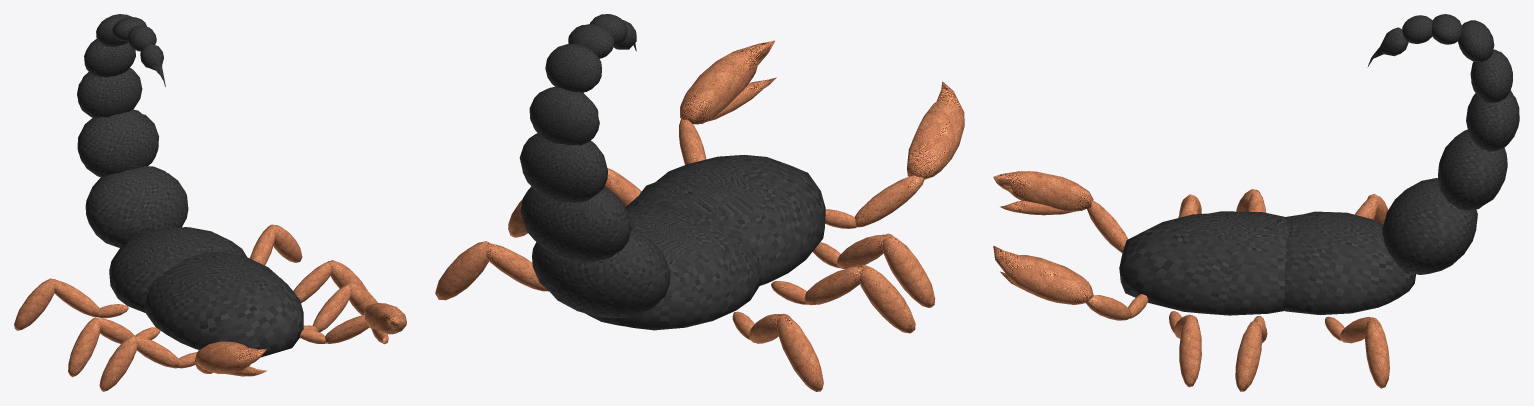
The model's file is scorpion_000003.obj.
3 views of the same model, side by side, from view 1: azimuth 30°, elevation 25°; view 2: azimuth 150°, elevation 25°; view 3: azimuth 270°, elevation 25° (orthographic). The views are drawn at different scales.
Parts seen in each view (by area): view 1: Sphere.010_Sphere.012, Sphere.002_Sphere.004, Sphere.011_Sphere.013, Sphere.003_Sphere.005, Sphere.030_Sphere.000, Sphere.004_Sphere.006, Sphere.014_Sphere.023, Sphere.013_Sphere.017, Sphere.012_Sphere.020, Sphere.000_Sphere.019, Sphere.005_Sphere.007, Sphere.018_Sphere.025 (+8 smaller); view 2: Sphere.010_Sphere.012, Sphere.011_Sphere.013, Sphere.002_Sphere.004, Sphere.030_Sphere.000, Sphere.003_Sphere.005, Sphere.004_Sphere.006, Sphere.014_Sphere.023, Sphere.005_Sphere.007, Sphere.028_Sphere.046, Sphere.012_Sphere.020, Sphere.006_Sphere.008, Sphere.018_Sphere.025 (+8 smaller); view 3: Sphere.010_Sphere.012, Sphere.011_Sphere.013, Sphere.002_Sphere.004, Sphere.030_Sphere.000, Sphere.003_Sphere.005, Sphere.004_Sphere.006, Sphere.028_Sphere.046, Sphere.005_Sphere.007, Sphere.014_Sphere.023, Sphere.012_Sphere.020, Sphere.000_Sphere.019, Sphere.006_Sphere.008 (+6 smaller).
Boxes of the visible parts, box(x1,y1,x2,y2) form: Sphere.010_Sphere.012: box(144, 251, 303, 357); Sphere.002_Sphere.004: box(85, 166, 188, 247); Sphere.011_Sphere.013: box(109, 227, 246, 312); Sphere.003_Sphere.005: box(77, 109, 158, 177); Sphere.030_Sphere.000: box(195, 303, 406, 373); Sphere.004_Sphere.006: box(77, 68, 142, 118); Sphere.014_Sphere.023: box(14, 224, 302, 330); Sphere.013_Sphere.017: box(135, 284, 351, 368); Sphere.012_Sphere.020: box(68, 260, 367, 377); Sphere.000_Sphere.019: box(99, 282, 377, 391); Sphere.005_Sphere.007: box(84, 38, 135, 77); Sphere.018_Sphere.025: box(54, 226, 275, 317); Sphere.010_Sphere.012: box(626, 155, 825, 285); Sphere.011_Sphere.013: box(585, 202, 761, 330); Sphere.002_Sphere.004: box(532, 226, 670, 318); Sphere.030_Sphere.000: box(680, 40, 964, 179); Sphere.003_Sphere.005: box(520, 186, 631, 262); Sphere.004_Sphere.006: box(519, 133, 607, 202); Sphere.014_Sphere.023: box(435, 241, 823, 391); Sphere.005_Sphere.007: box(529, 86, 599, 145); Sphere.028_Sphere.046: box(679, 119, 924, 227); Sphere.012_Sphere.020: box(508, 199, 915, 333); Sphere.006_Sphere.008: box(545, 43, 601, 92); Sphere.018_Sphere.025: box(486, 243, 780, 343); Sphere.010_Sphere.012: box(1119, 211, 1289, 315); Sphere.011_Sphere.013: box(1283, 211, 1415, 314); Sphere.002_Sphere.004: box(1382, 178, 1477, 274); Sphere.030_Sphere.000: box(993, 171, 1093, 304); Sphere.003_Sphere.005: box(1438, 129, 1507, 210); Sphere.004_Sphere.006: box(1466, 90, 1519, 151); Sphere.028_Sphere.046: box(1086, 200, 1131, 320); Sphere.005_Sphere.007: box(1470, 49, 1512, 102); Sphere.014_Sphere.023: box(1365, 194, 1389, 388); Sphere.012_Sphere.020: box(1235, 189, 1261, 391); Sphere.000_Sphere.019: box(1179, 194, 1201, 387); Sphere.006_Sphere.008: box(1458, 20, 1494, 62).
Size of the model in its own units: 0.9593 by 0.7816 by 1.27.
2 materials, 2 textured.
